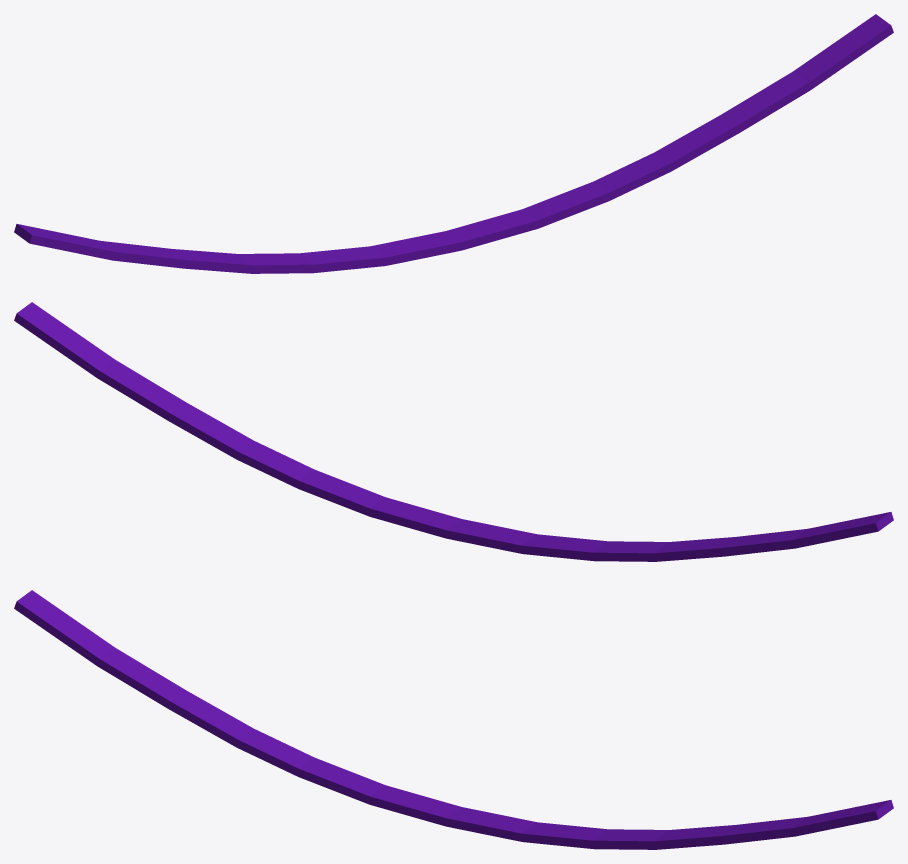
Rendered from Tape_8.001_chunks.fbx.
The picture shows the model from 3 angles, top to bottom: view 1: azimuth 30°, elevation 25°; view 2: azimuth 150°, elevation 25°; view 3: azimuth 330°, elevation 25°; orthographic projection.
Visible parts, largest first — view 1: Tape_8.001_3, Tape_8.001_1, Tape_8.001_2, Tape_8.001_0; view 2: Tape_8.001_3, Tape_8.001_1, Tape_8.001_2; view 3: Tape_8.001_1, Tape_8.001_3, Tape_8.001_2, Tape_8.001_0.
Boxes of the visible parts, x1,y1,x2,y2 form: Tape_8.001_3: (568,14,893,208); Tape_8.001_1: (14,224,422,273); Tape_8.001_2: (414,181,594,240); Tape_8.001_0: (404,230,501,262); Tape_8.001_3: (14,302,354,485); Tape_8.001_1: (479,512,893,561); Tape_8.001_2: (280,480,484,546); Tape_8.001_1: (14,590,428,809); Tape_8.001_3: (553,800,893,849); Tape_8.001_2: (426,797,608,847); Tape_8.001_0: (388,802,486,833).
Size of the model in its own units: 776 by 103 by 24.08.
